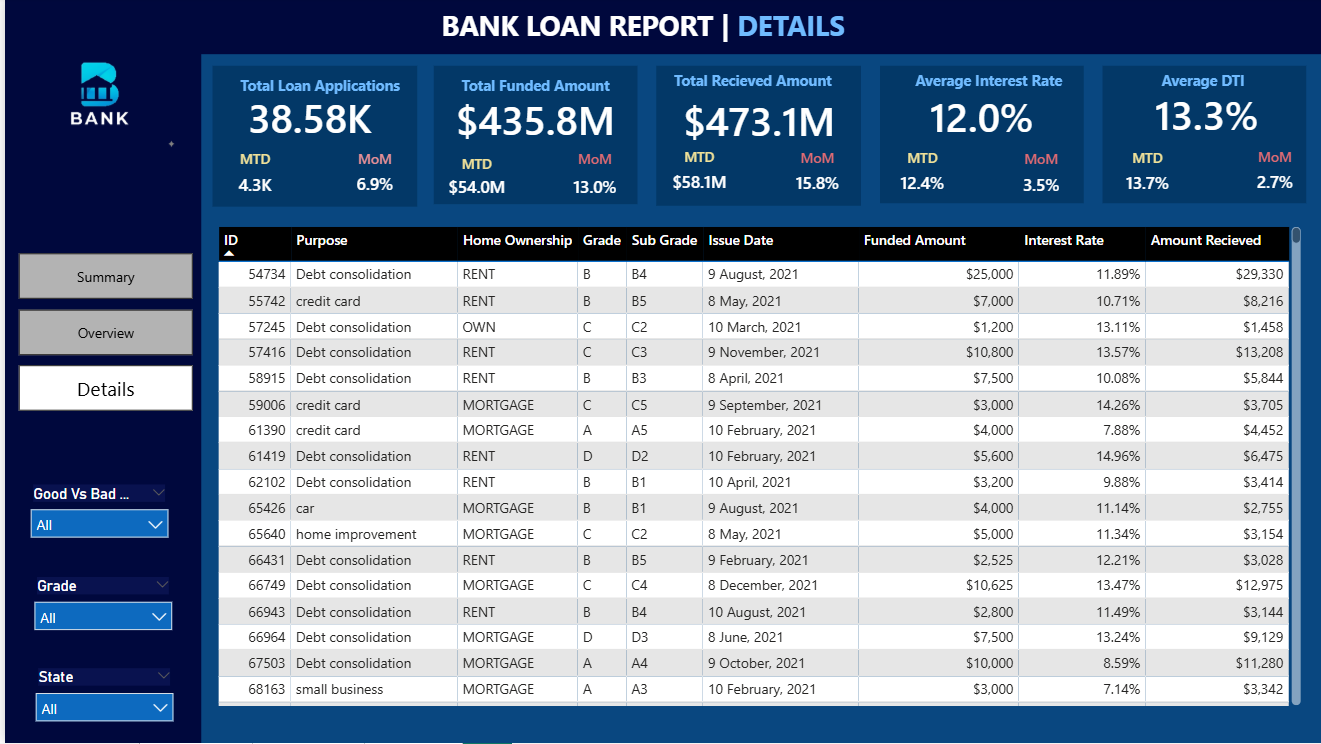

Layout of this report page (visuals, bound fields, positions):
{"tool":"powerbi","page":{"name":"Details","canvas":[1280,720],"ordinal":2},"visuals":[{"type":"shape","box":[0,0,189.4,720.2],"z":0},{"type":"shape","box":[126.6,0,1153.4,55.5],"z":1000},{"type":"textbox","box":[415.8,4.1,447.3,46.7],"z":2000},{"type":"shape","box":[200.3,66.4,197.9,136.3],"z":3000},{"type":"card","fields":{"Values":["All Measures.Total Loan Applications"]},"box":[209.4,88.6,168.9,56.7],"z":4000},{"type":"textbox","box":[221.5,71.7,174.9,39.8],"z":5000},{"type":"card","title":"MTD","fields":{"Values":["All Measures.MTD Loan Application"]},"box":[200,147.6,82.3,54.9],"z":6000},{"type":"card","title":"MoM","fields":{"Values":["All Measures.MoM Loan Application"]},"box":[315.6,147.7,82,53.1],"z":7000},{"type":"shape","box":[413.8,66.4,196.6,133.9],"z":8000},{"type":"card","fields":{"Values":["All Measures.Total Funded Amount"]},"box":[415.7,91,191.8,55.5],"z":9000},{"type":"textbox","box":[435,71.7,174.9,39.8],"z":10000},{"type":"card","title":"MoM","fields":{"Values":["All Measures.MoM Funded Amount"]},"box":[527.9,147.7,82,57.9],"z":11000},{"type":"card","title":"MTD","fields":{"Values":["All Measures.MTD Funded Amount"]},"box":[413.3,152.5,83.2,48.3],"z":12000},{"type":"shape","box":[628.3,65.9,197.9,135.1],"z":13000},{"type":"card","fields":{"Values":["All Measures.Total Recieved Amount"]},"box":[631.9,90,191.8,56.7],"z":14000},{"type":"textbox","box":[640.4,65.9,174.9,39.8],"z":15000},{"type":"card","title":"MoM","fields":{"Values":["All Measures.MoM Recieved Amount"]},"box":[742.9,145.5,82,53.1],"z":16000},{"type":"card","title":"MTD","fields":{"Values":["All Measures.MTD Recieved Amount"]},"box":[628.3,144.3,83.2,54.3],"z":17000},{"type":"shape","box":[844.3,65.9,196.6,132.7],"z":18000},{"type":"card","fields":{"Values":["All Measures.Average Interest rate"]},"box":[846.7,86.4,191.8,56.7],"z":19000},{"type":"textbox","box":[873.2,65.9,174.9,39.8],"z":20000},{"type":"card","title":"MoM","fields":{"Values":["All Measures.MoM average interest rate"]},"box":[958.9,146.7,82,54.3],"z":21000},{"type":"card","title":"MTD","fields":{"Values":["All Measures.MTD average Int Rate"]},"box":[844.3,145.5,82,54.3],"z":22000},{"type":"shape","box":[1059.3,66.4,196.6,132.7],"z":23000},{"type":"card","fields":{"Values":["All Measures.Average Dti"]},"box":[1063.8,87.6,191.8,50.7],"z":24000},{"type":"textbox","box":[1110.9,65.9,144.8,39.8],"z":25000},{"type":"card","title":"MoM","fields":{"Values":["All Measures.MoM average Dti"]},"box":[1184.7,145,82,54.3],"z":26000},{"type":"card","title":"MTD","fields":{"Values":["All Measures.MTD average Dti"]},"box":[1061.4,145.5,82,54.3],"z":27000},{"type":"slicer","fields":{"Values":["Bank Loan Data.address_state"]},"box":[19.3,643,153.2,66.4],"z":28000},{"type":"slicer","fields":{"Values":["Bank Loan Data.grade"]},"box":[18.1,555,153.2,66.4],"z":29000},{"type":"slicer","fields":{"Values":["Bank Loan Data.Good Vs Bad Loan"]},"box":[14.5,465.7,153.2,66.4],"z":30000},{"type":"tableEx","fields":{"Values":["Bank Loan Data.id","Bank Loan Data.purpose","Bank Loan Data.home_ownership","Bank Loan Data.grade","Bank Loan Data.sub_grade","Bank Loan Data.issue_date","Bank Loan Data.loan_amount","Bank Loan Data.int_rate","Bank Loan Data.total_payment"]},"box":[200.3,217.2,1055.6,471.7],"z":31000},{"type":"pageNavigator","box":[13.3,247.3,168.9,153.2],"z":32000},{"type":"image","box":[10.9,14.5,161.7,158],"z":33000}]}

Visuals, with their boxes in screenshot pixels (x1, y1, x2, y2), scaled from the page's 1280x720 canvas onto the 1321x744 screenshot:
shape: 0,0,195,743
shape: 131,0,1320,57
textbox: 429,4,891,52
shape: 207,69,411,209
card - All Measures.Total Loan Applications: 216,92,390,150
textbox: 229,74,409,115
"MTD" card: 206,153,291,209
"MoM" card: 326,153,410,207
shape: 427,69,630,207
card - All Measures.Total Funded Amount: 429,94,627,151
textbox: 449,74,629,115
"MoM" card: 545,153,629,212
"MTD" card: 427,158,512,207
shape: 648,68,853,208
card - All Measures.Total Recieved Amount: 652,93,850,152
textbox: 661,68,841,109
"MoM" card: 767,150,851,205
"MTD" card: 648,149,734,205
shape: 871,68,1074,205
card - All Measures.Average Interest rate: 874,89,1072,148
textbox: 901,68,1082,109
"MoM" card: 990,152,1074,208
"MTD" card: 871,150,956,206
shape: 1093,69,1296,206
card - All Measures.Average Dti: 1098,91,1296,143
textbox: 1146,68,1296,109
"MoM" card: 1223,150,1307,206
"MTD" card: 1095,150,1180,206
slicer - Bank Loan Data.address_state: 20,664,178,733
slicer - Bank Loan Data.grade: 19,574,177,642
slicer - Bank Loan Data.Good Vs Bad Loan: 15,481,173,550
tableEx - Bank Loan Data.id x Bank Loan Data.purpose: 207,224,1296,712
pageNavigator: 14,256,188,414
image: 11,15,178,178
